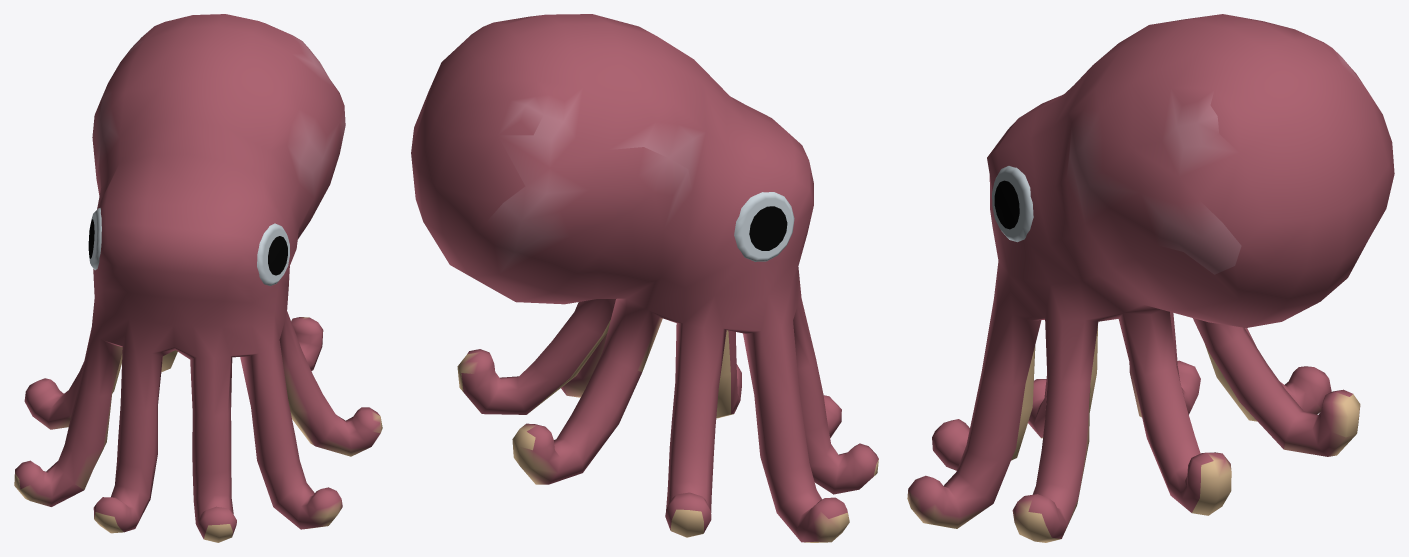
File: Octopus.glb
3 renders of one model, left to right at view 1: azimuth 30°, elevation 25°; view 2: azimuth 150°, elevation 25°; view 3: azimuth 270°, elevation 25°, orthographic. The views are drawn at different scales.
Visible parts, largest first — view 1: 110; view 2: 110; view 3: 110.
Boxes of the visible parts, <box> form: 110: <box>14,14,382,542</box>; 110: <box>411,14,878,542</box>; 110: <box>907,14,1394,542</box>.
Bounding box in the file's own units: 0.8072 × 0.9464 × 0.816.
